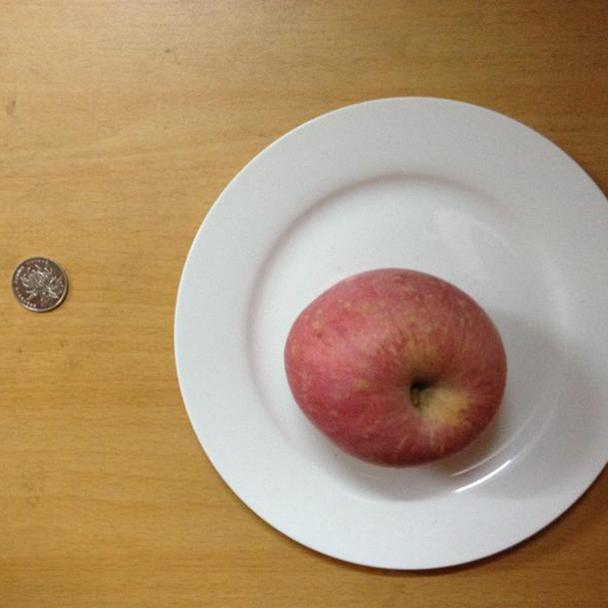apple: (283, 269, 507, 468)
